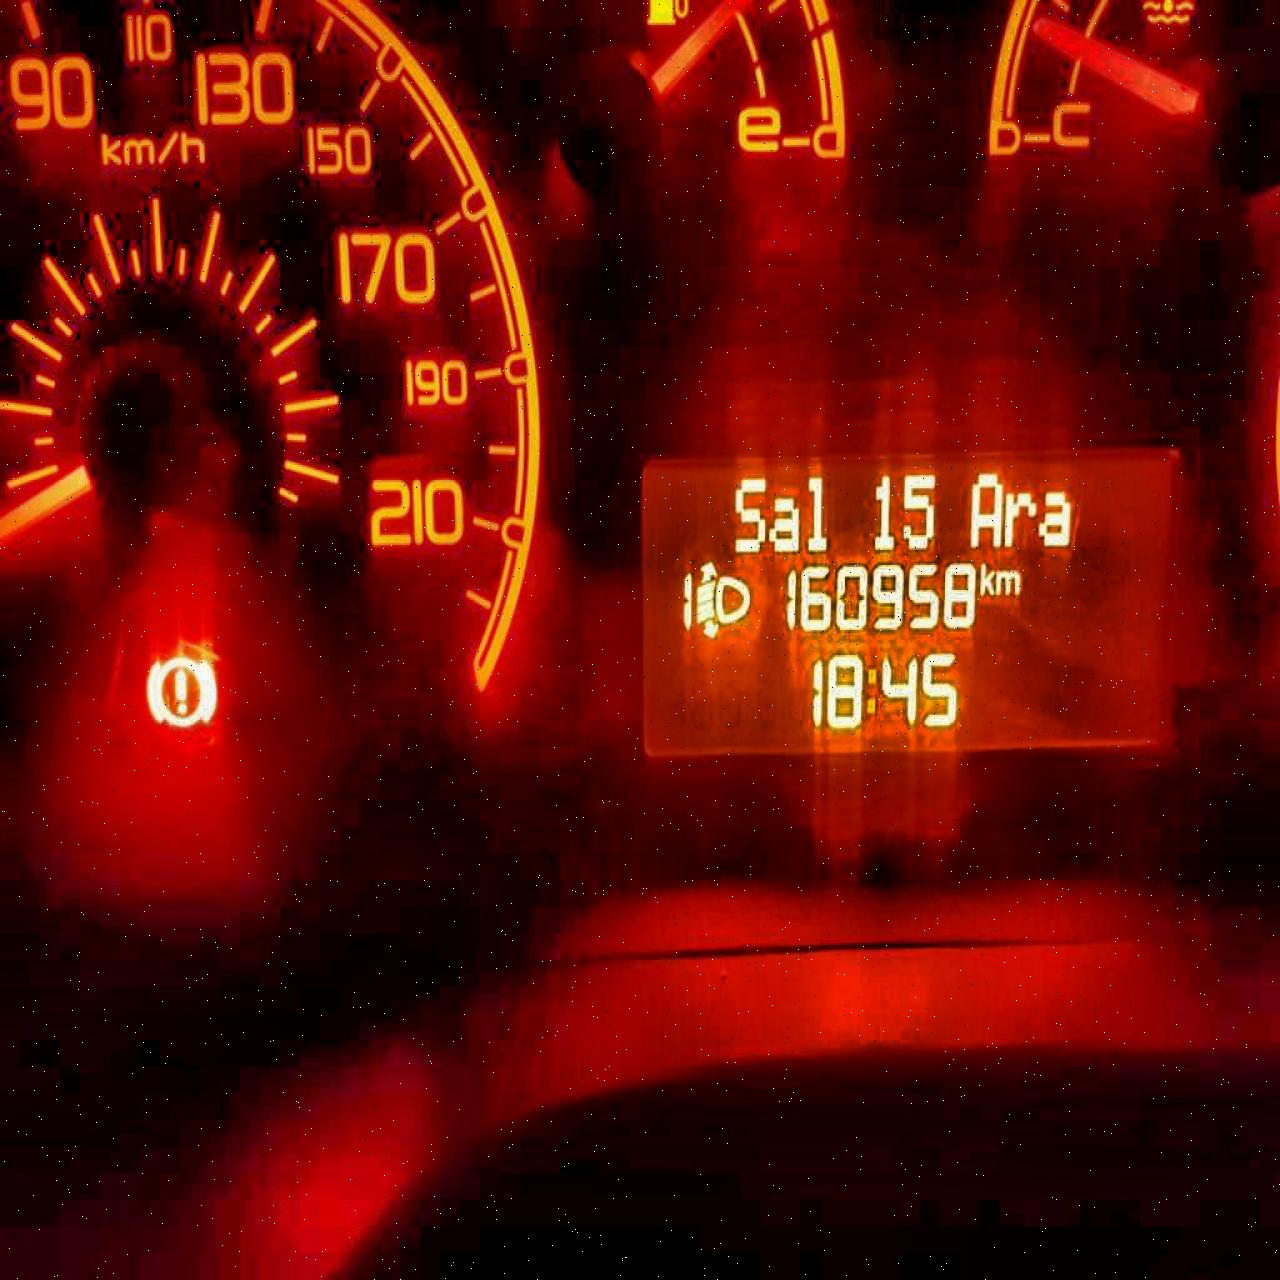0: (835, 564, 866, 628)
1: (874, 468, 896, 550), (809, 653, 823, 730), (680, 564, 693, 633), (785, 561, 796, 635)
4: (880, 655, 915, 727)
5: (901, 470, 935, 550), (922, 652, 958, 728), (908, 560, 939, 629)
6: (799, 564, 829, 629)
8: (826, 649, 860, 728), (944, 560, 973, 628)
9: (872, 560, 903, 629)
X: (967, 468, 1001, 546), (733, 475, 765, 550), (1037, 483, 1074, 550), (803, 467, 832, 549), (1005, 486, 1034, 543), (770, 497, 799, 551), (995, 565, 1020, 597), (979, 558, 993, 597), (866, 659, 874, 720)
odometer: (634, 447, 1175, 758)
